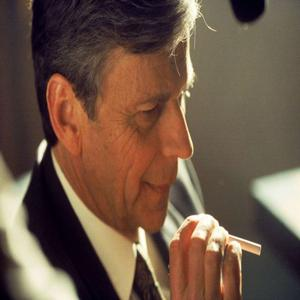cigarette: (208, 226, 262, 258)
